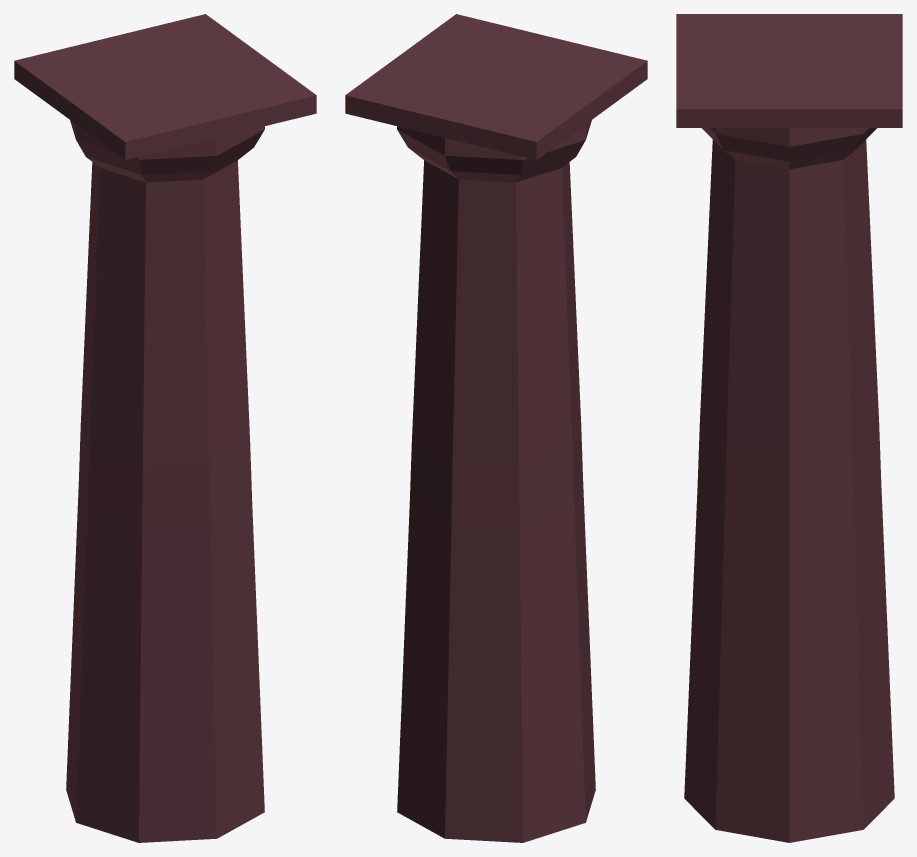
Rendered from empire-pillar-doric-small-color-empire.glb.
3 renders of one model, left to right at view 1: azimuth 30°, elevation 25°; view 2: azimuth 150°, elevation 25°; view 3: azimuth 270°, elevation 25°, orthographic.
Visible parts, largest first — view 1: SM_Pillar_Doric_Small_Color_Empire; view 2: SM_Pillar_Doric_Small_Color_Empire; view 3: SM_Pillar_Doric_Small_Color_Empire.
Part boxes in pixels (left/top/right/bottom): SM_Pillar_Doric_Small_Color_Empire: left=14, top=14, right=316, bottom=842; SM_Pillar_Doric_Small_Color_Empire: left=345, top=14, right=647, bottom=842; SM_Pillar_Doric_Small_Color_Empire: left=676, top=14, right=902, bottom=842.
Bounding box in the file's own units: 0.8316 × 3 × 0.8355.
